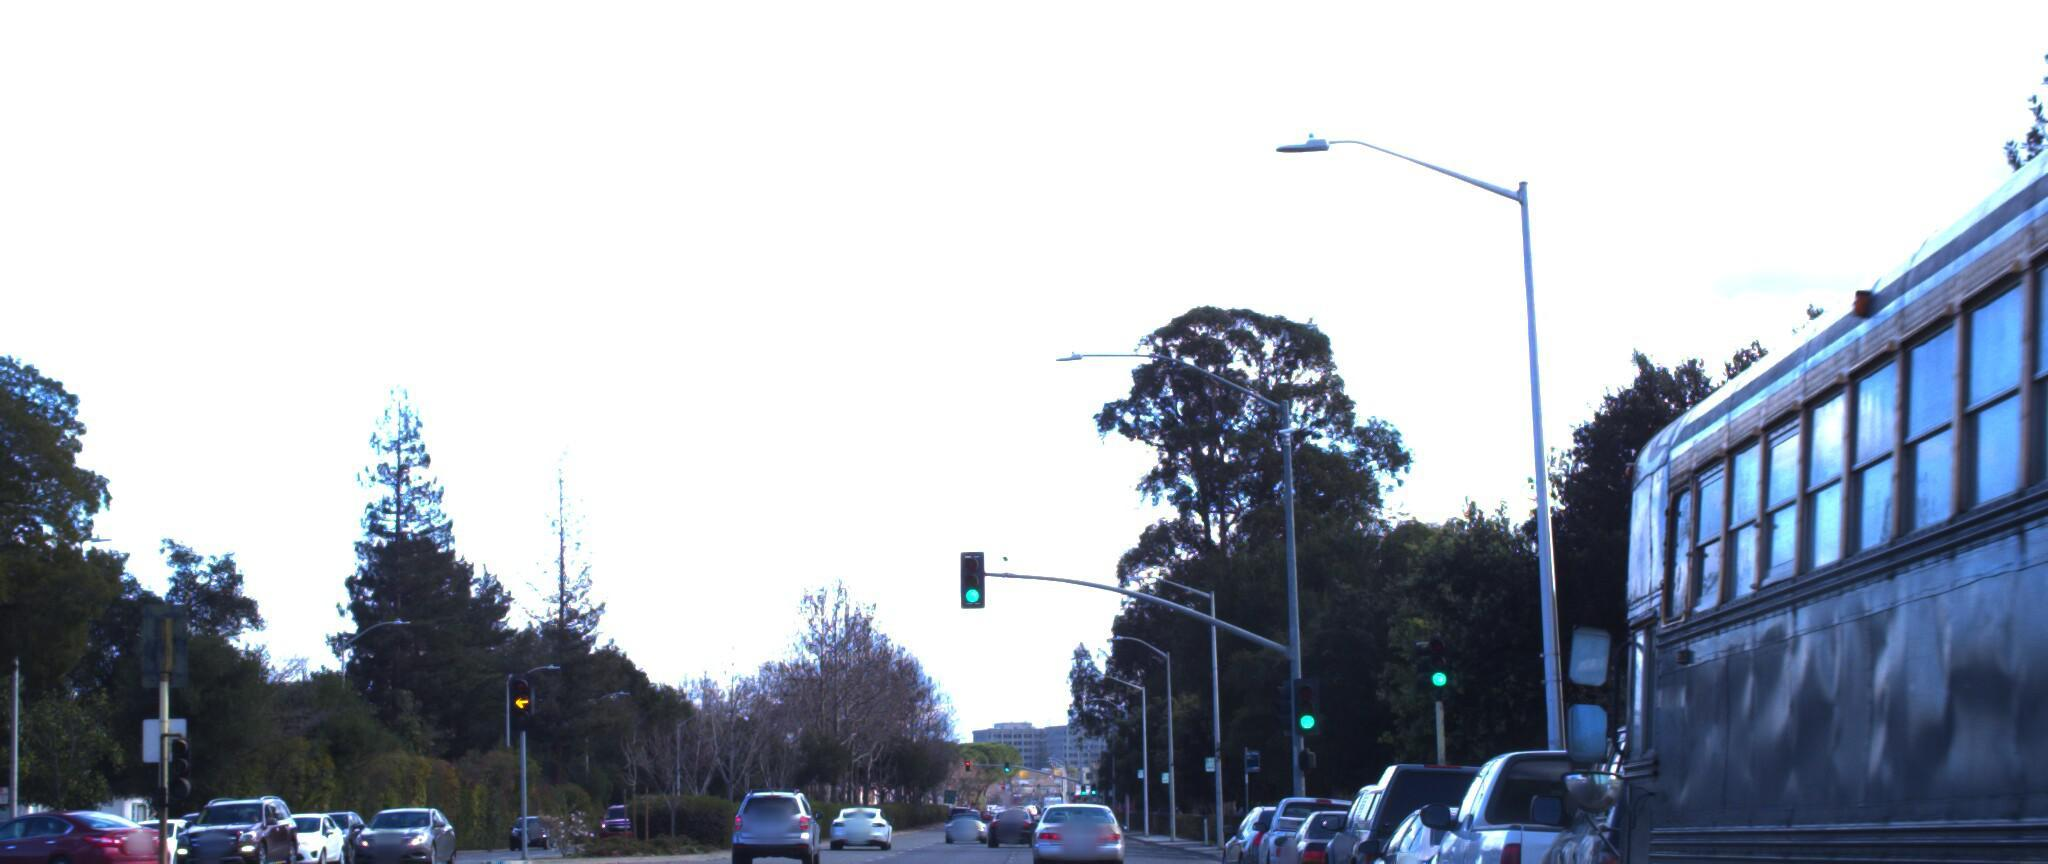bus: (1561, 0, 2048, 864)
car: (1407, 715, 1806, 864), (1322, 747, 1540, 864), (1256, 783, 1401, 864), (0, 803, 170, 864), (355, 784, 473, 859), (720, 774, 814, 857), (252, 794, 360, 861), (1017, 790, 1113, 864)
